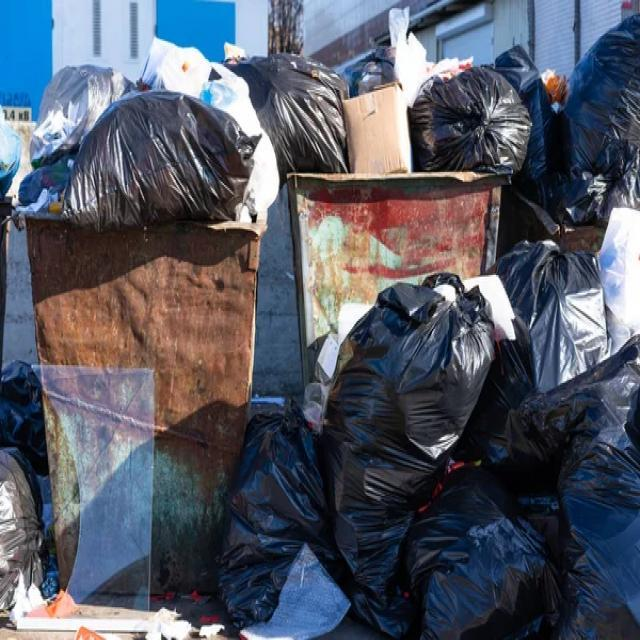garbage: (322, 247, 639, 621), (0, 489, 270, 637)
